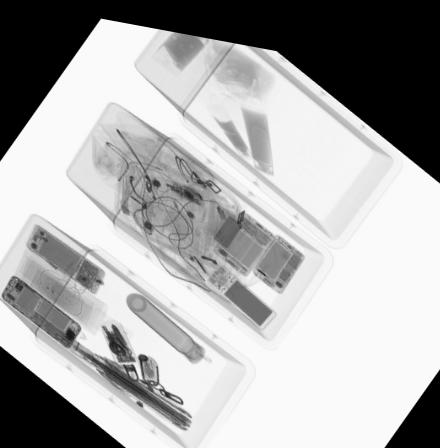Powerbank: (17, 256, 93, 320)
